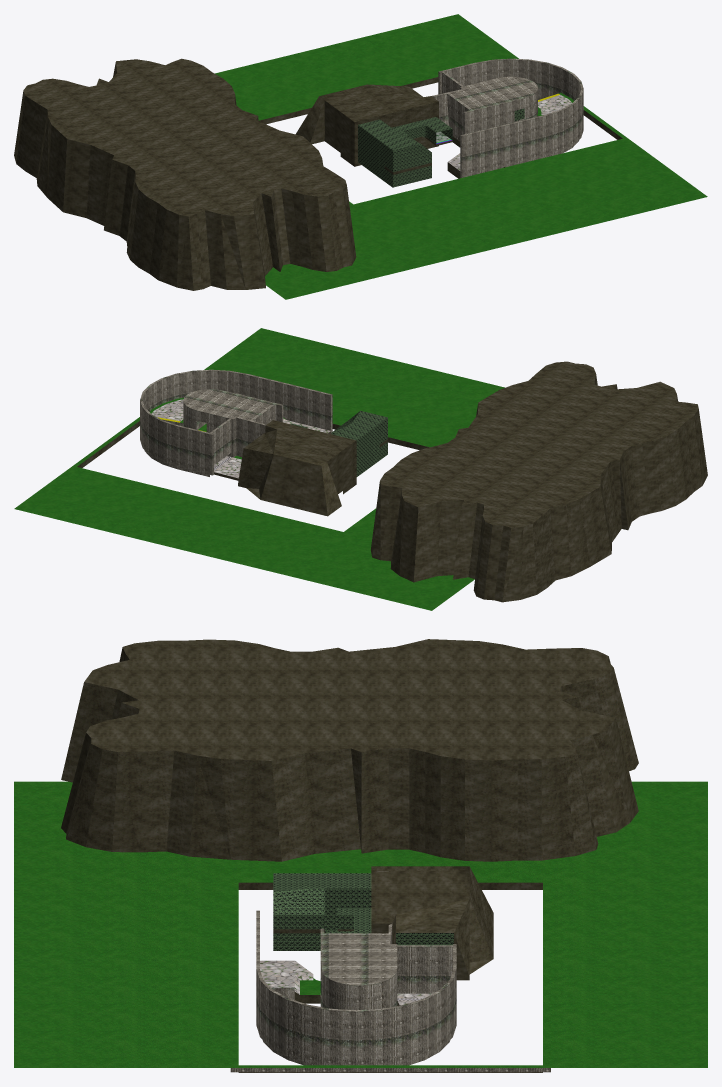
The picture shows the model from 3 angles, top to bottom: view 1: azimuth 30°, elevation 25°; view 2: azimuth 150°, elevation 25°; view 3: azimuth 270°, elevation 25°; orthographic projection. The views are drawn at different scales.
Visible parts, largest first — view 1: textzremodel_Main-cave.001, textzremodel_Main-grass.001, textzremodel_Main-wall.001, textzremodel_Main-fence.001, textzremodel_Main-path2.001; view 2: textzremodel_Main-cave.001, textzremodel_Main-grass.001, textzremodel_Main-wall.001, textzremodel_Main-fence.001, textzremodel_Main-path2.001; view 3: textzremodel_Main-cave.001, textzremodel_Main-grass.001, textzremodel_Main-wall.001, textzremodel_Main-fence.001, textzremodel_Main-path2.001.
Part boxes in pixels (box(x1,y1,x2,y2)): textzremodel_Main-cave.001: box(14, 58, 622, 290); textzremodel_Main-grass.001: box(215, 14, 707, 299); textzremodel_Main-wall.001: box(432, 58, 583, 178); textzremodel_Main-fence.001: box(358, 108, 524, 187); textzremodel_Main-path2.001: box(448, 94, 572, 170); textzremodel_Main-cave.001: box(77, 361, 707, 602); textzremodel_Main-grass.001: box(14, 328, 504, 610); textzremodel_Main-wall.001: box(140, 369, 332, 476); textzremodel_Main-fence.001: box(291, 410, 387, 476); textzremodel_Main-path2.001: box(151, 399, 330, 478); textzremodel_Main-cave.001: box(61, 639, 638, 1072); textzremodel_Main-grass.001: box(14, 781, 707, 1067); textzremodel_Main-wall.001: box(230, 910, 550, 1072); textzremodel_Main-fence.001: box(273, 873, 453, 997); textzremodel_Main-path2.001: box(260, 871, 432, 1005).
Size of the model in its own units: 159604 by 27768 by 138184.
Materials: 13 (12 with a texture image).
